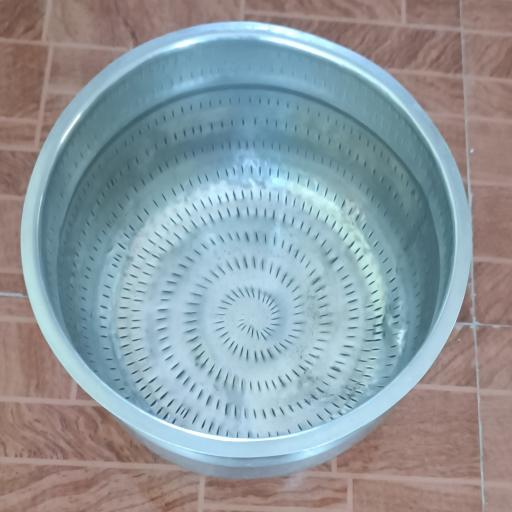vessel: (22, 23, 471, 478)
